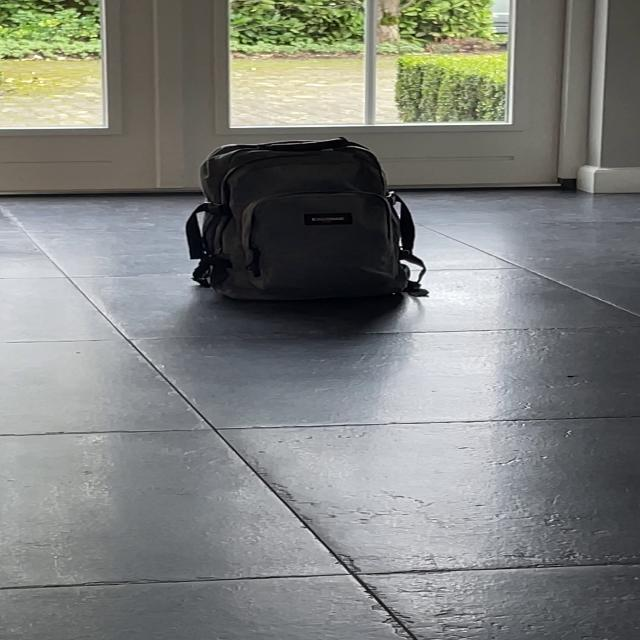backpack: (175, 130, 428, 312)
